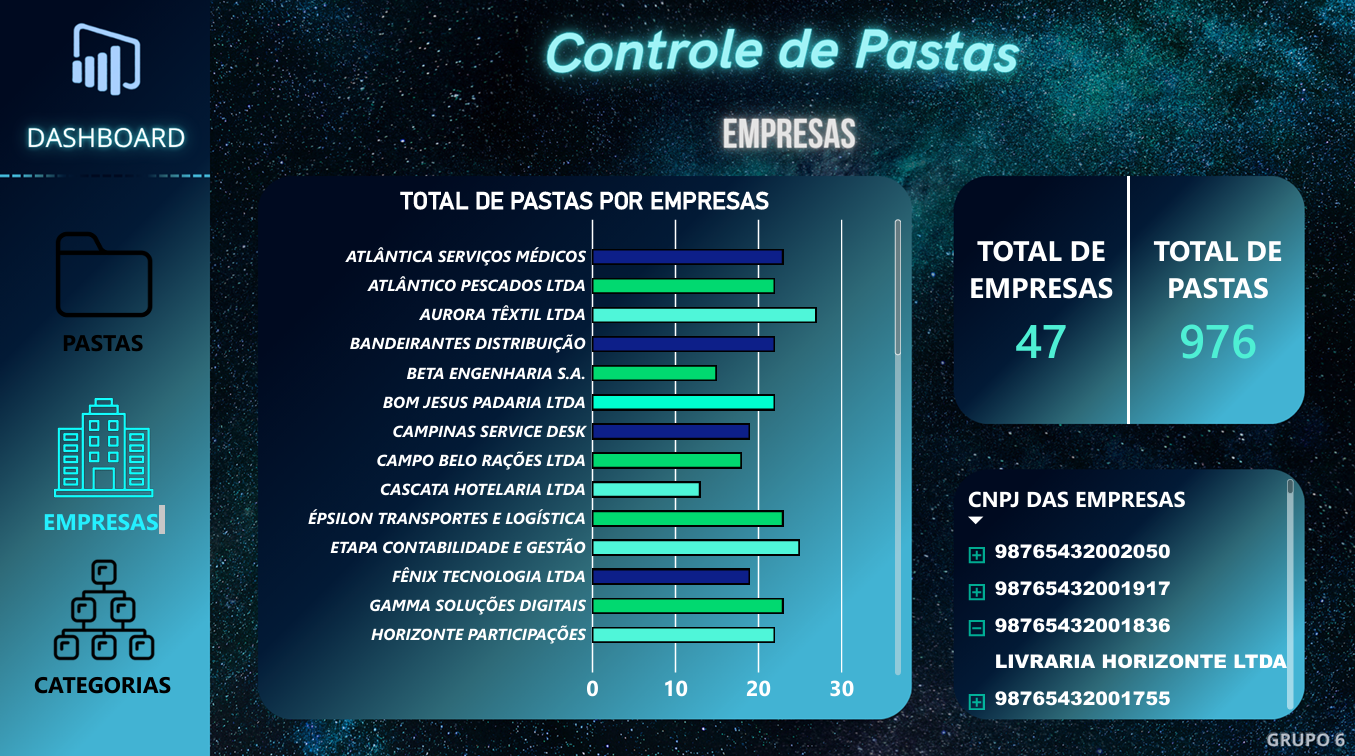

This screenshot's page, from the dashboard's own definition file:
{"tool":"powerbi","page":{"name":"EMPRESAS","canvas":[1920,1080],"ordinal":1},"visuals":[{"type":"image","box":[0,0,1920.4,1080.6],"z":0},{"type":"image","box":[72.5,317.5,146.1,148.2],"z":1000},{"type":"image","box":[72.5,512.5,145,247.5],"z":2000},{"type":"image","box":[72.5,760,146.1,212],"z":3000},{"type":"clusteredBarChart","title":"TOTAL DE PASTAS POR EMPRESAS","fields":{"Category":["EMPRESA.NOME"],"Y":["PASTA.TOTAL PASTAS"]},"box":[362.5,252.5,927.6,770.1],"z":4000},{"type":"cardVisual","fields":{"Data":["EMPRESA.TOTAL EMPRESAS"]},"box":[1347.5,252.5,250,350],"z":5000},{"type":"pivotTable","fields":{"Rows":["EMPRESA.CNPJ","EMPRESA.NOME"]},"box":[1348.2,666.9,498.1,356.1],"z":6000},{"type":"cardVisual","fields":{"Data":["PASTA.TOTAL PASTAS"]},"box":[1597.5,252.5,250,350],"z":7000},{"type":"textbox","box":[85,465,117.5,67.5],"z":8000},{"type":"textbox","box":[57.5,717.5,175,42.5],"z":9000},{"type":"textbox","box":[25,947.5,237.5,50],"z":10000}]}

Visuals, with their boxes in screenshot pixels (x1, y1, x2, y2), scaled from the page's 1920x1080 canvas onto the 1355x756 screenshot:
image: (left=0, top=0, right=1354, bottom=755)
image: (left=51, top=222, right=154, bottom=326)
image: (left=51, top=359, right=153, bottom=532)
image: (left=51, top=532, right=154, bottom=680)
"TOTAL DE PASTAS POR EMPRESAS" clusteredBarChart: (left=256, top=177, right=910, bottom=716)
cardVisual - EMPRESA.TOTAL EMPRESAS: (left=951, top=177, right=1127, bottom=422)
pivotTable - EMPRESA.CNPJ x EMPRESA.NOME: (left=951, top=467, right=1303, bottom=716)
cardVisual - PASTA.TOTAL PASTAS: (left=1127, top=177, right=1304, bottom=422)
textbox: (left=60, top=326, right=143, bottom=373)
textbox: (left=41, top=502, right=164, bottom=532)
textbox: (left=18, top=663, right=185, bottom=698)
